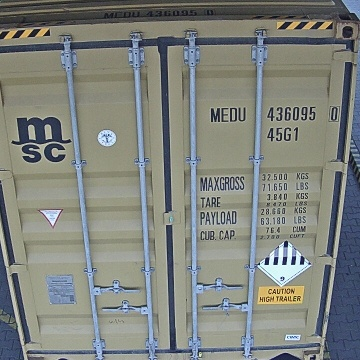serial_id: (211, 106, 339, 121)
